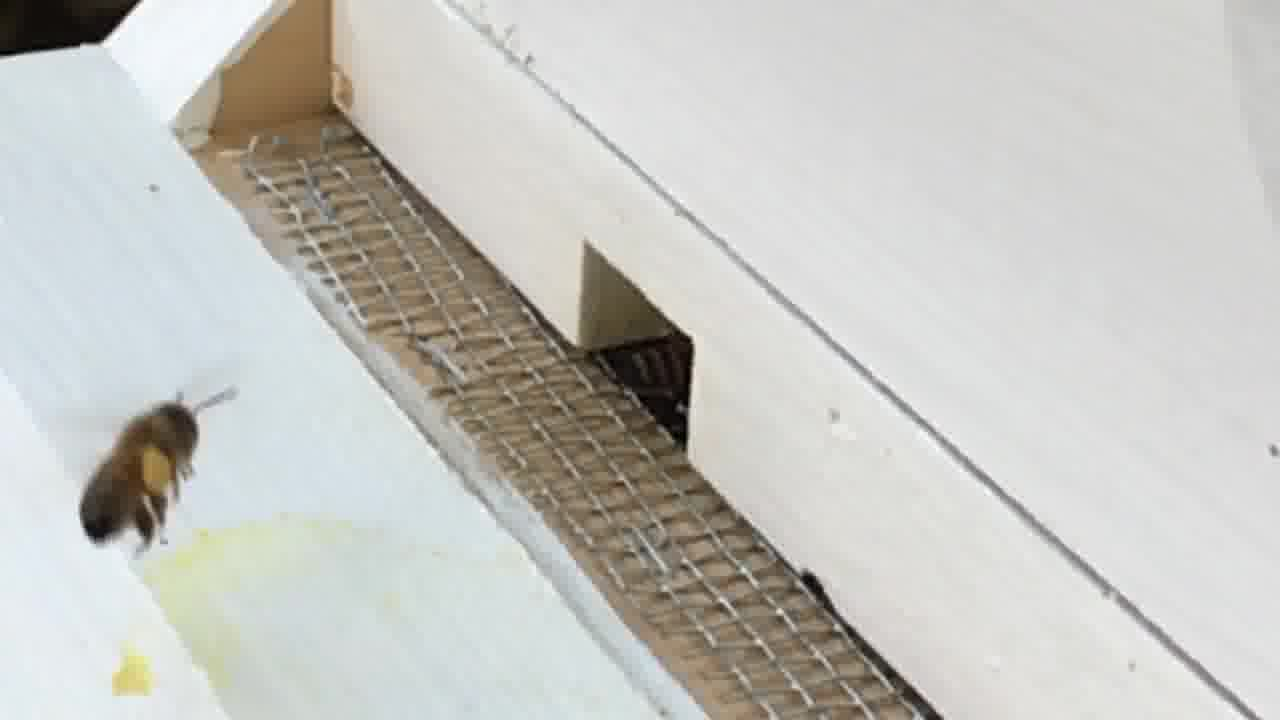pollen: (84, 391, 205, 549)
